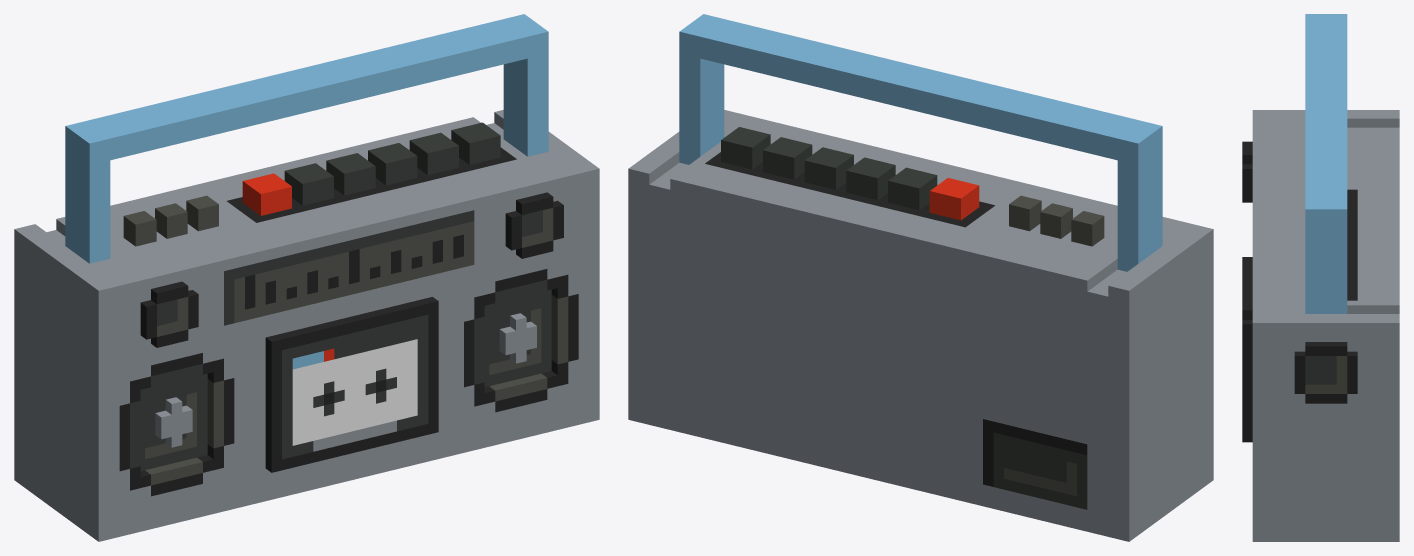
File: retro-boombox.glb
3 renders of one model, left to right at view 1: azimuth 30°, elevation 25°; view 2: azimuth 150°, elevation 25°; view 3: azimuth 270°, elevation 25°, orthographic. The views are drawn at different scales.
Size of the model in its own units: 4.9 by 3.4 by 1.5.
1 material, 1 textured.
